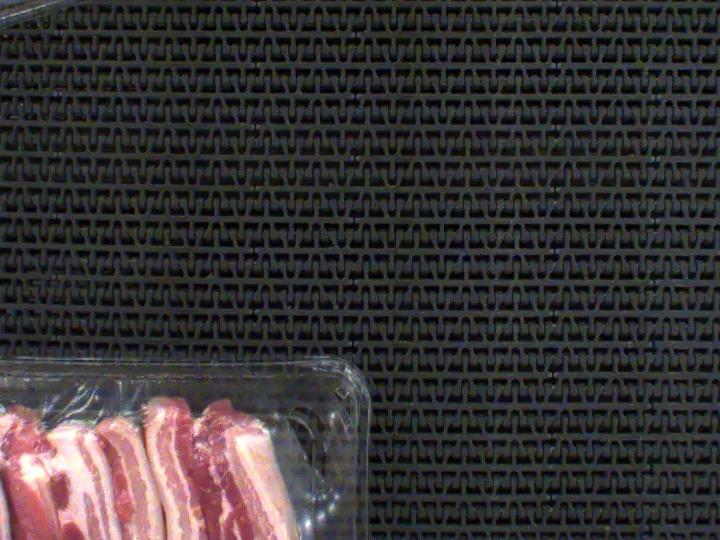unsealed: (0, 355, 376, 540)
